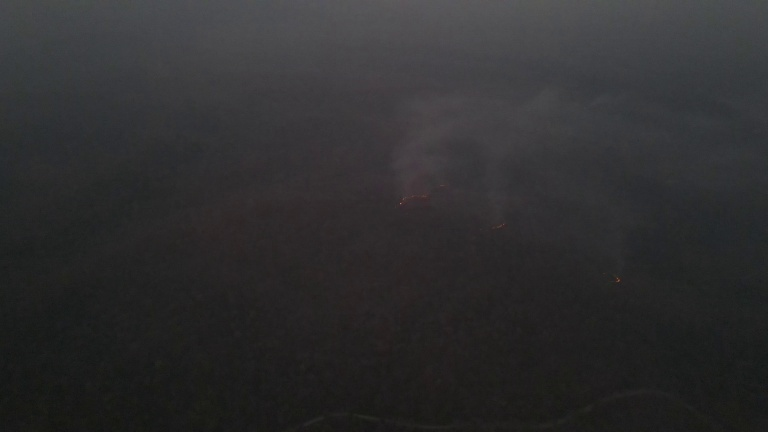fire: (392, 192, 406, 209), (408, 190, 431, 199), (492, 215, 505, 230), (612, 271, 624, 285), (437, 181, 446, 192)
smoke: (394, 88, 524, 213)
